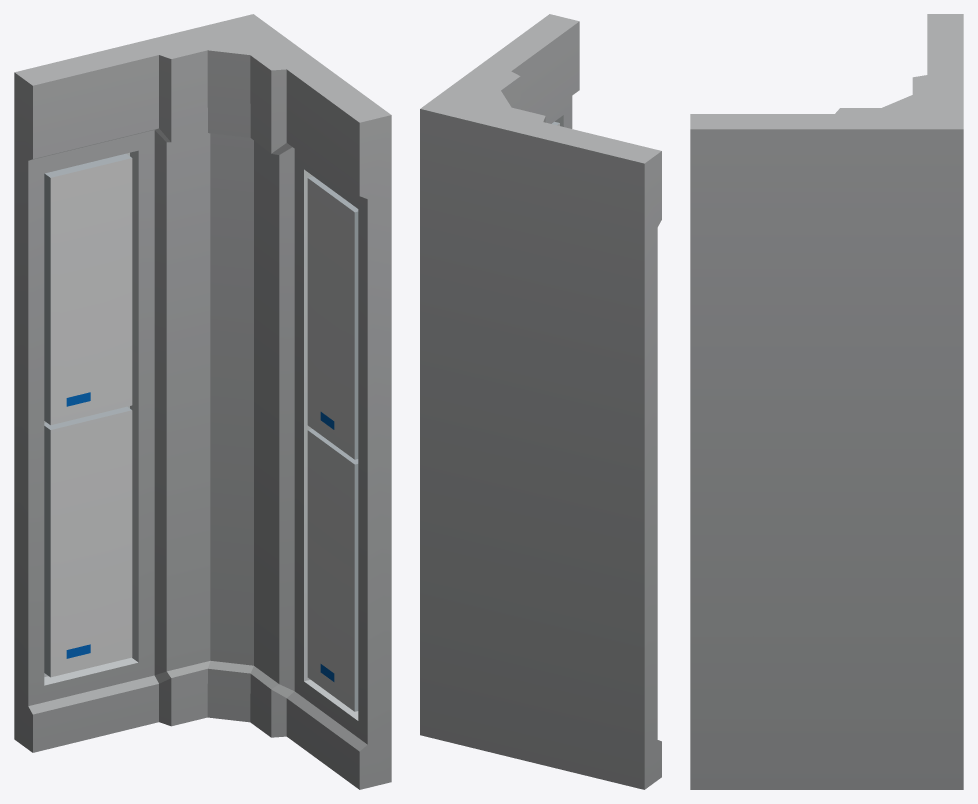
Rendered from Wall_type_A_024.fbx.
The picture shows the model from 3 angles, left to right: view 1: azimuth 30°, elevation 25°; view 2: azimuth 150°, elevation 25°; view 3: azimuth 270°, elevation 25°; orthographic projection. The views are drawn at different scales.
Visible parts, largest first — view 1: Wall_type_A_024; view 2: Wall_type_A_024; view 3: Wall_type_A_024.
Part boxes in pixels (box(x1,y1,x2,y2)): Wall_type_A_024: box(14, 14, 391, 789); Wall_type_A_024: box(420, 14, 661, 789); Wall_type_A_024: box(690, 14, 963, 789).
Bounding box in the file's own units: 150 × 150 × 400.
